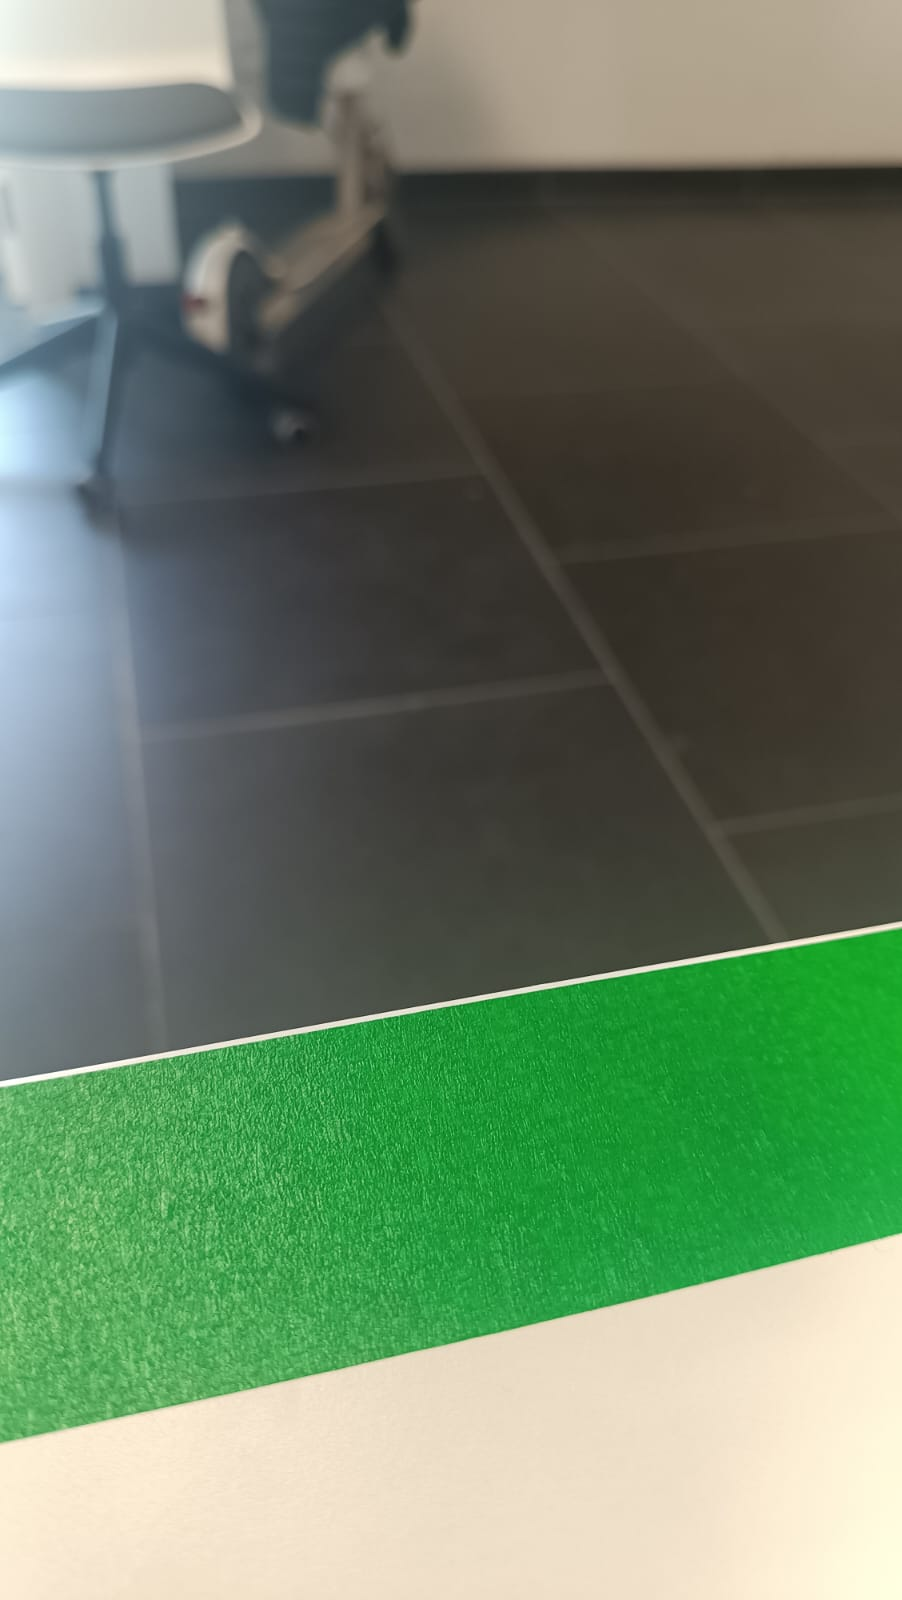linea_cerca: (0, 918, 902, 1447)
